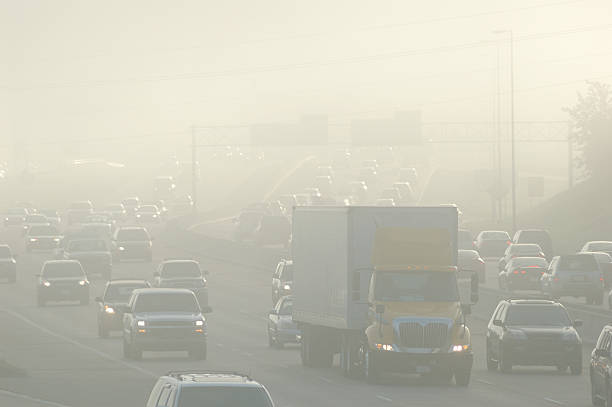car: (485, 298, 565, 377), (124, 290, 207, 358), (149, 373, 280, 407), (546, 254, 604, 306), (101, 281, 148, 337), (156, 259, 207, 306), (38, 262, 89, 304), (591, 323, 612, 407), (498, 257, 547, 291), (68, 238, 109, 277), (112, 227, 151, 262), (269, 298, 297, 346), (513, 230, 553, 259), (458, 249, 487, 286), (476, 230, 509, 261), (259, 217, 290, 247), (274, 260, 295, 299), (26, 227, 60, 251), (1, 246, 17, 287), (68, 201, 91, 222), (4, 208, 28, 227), (134, 205, 159, 223), (103, 203, 125, 221)
truck: (294, 207, 471, 387)
